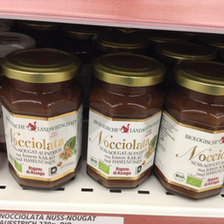jam: (1, 48, 84, 190), (86, 52, 167, 190), (155, 61, 224, 200)
